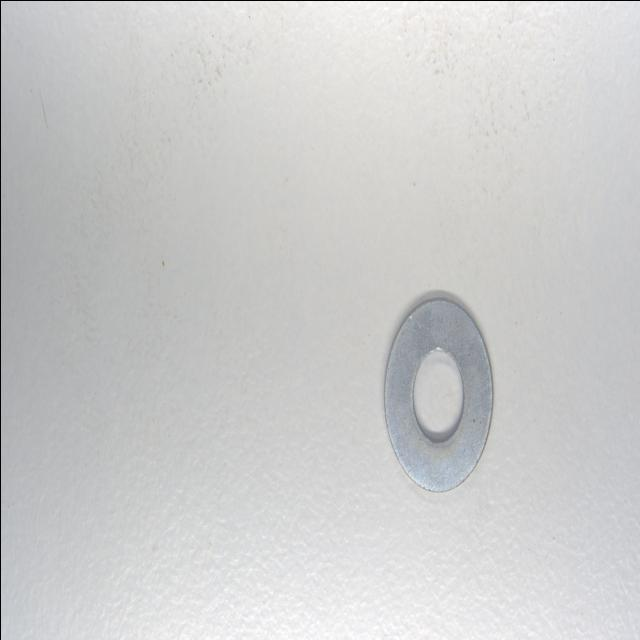washer: (382, 290, 494, 494)
